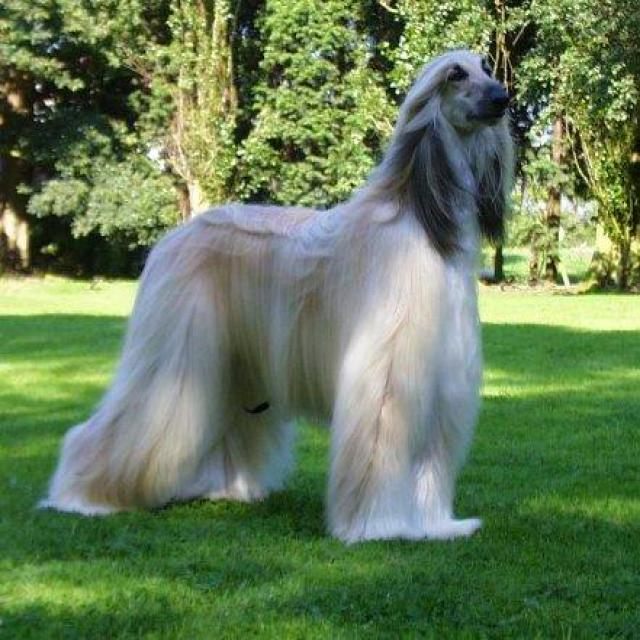afghan_hound: (48, 48, 518, 540)
